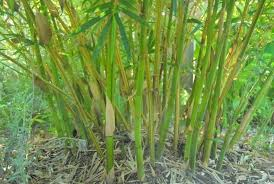bamboo: (6, 7, 269, 171)
